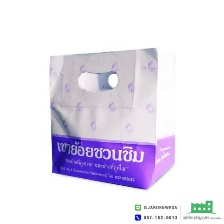snack: (42, 38, 184, 196)
